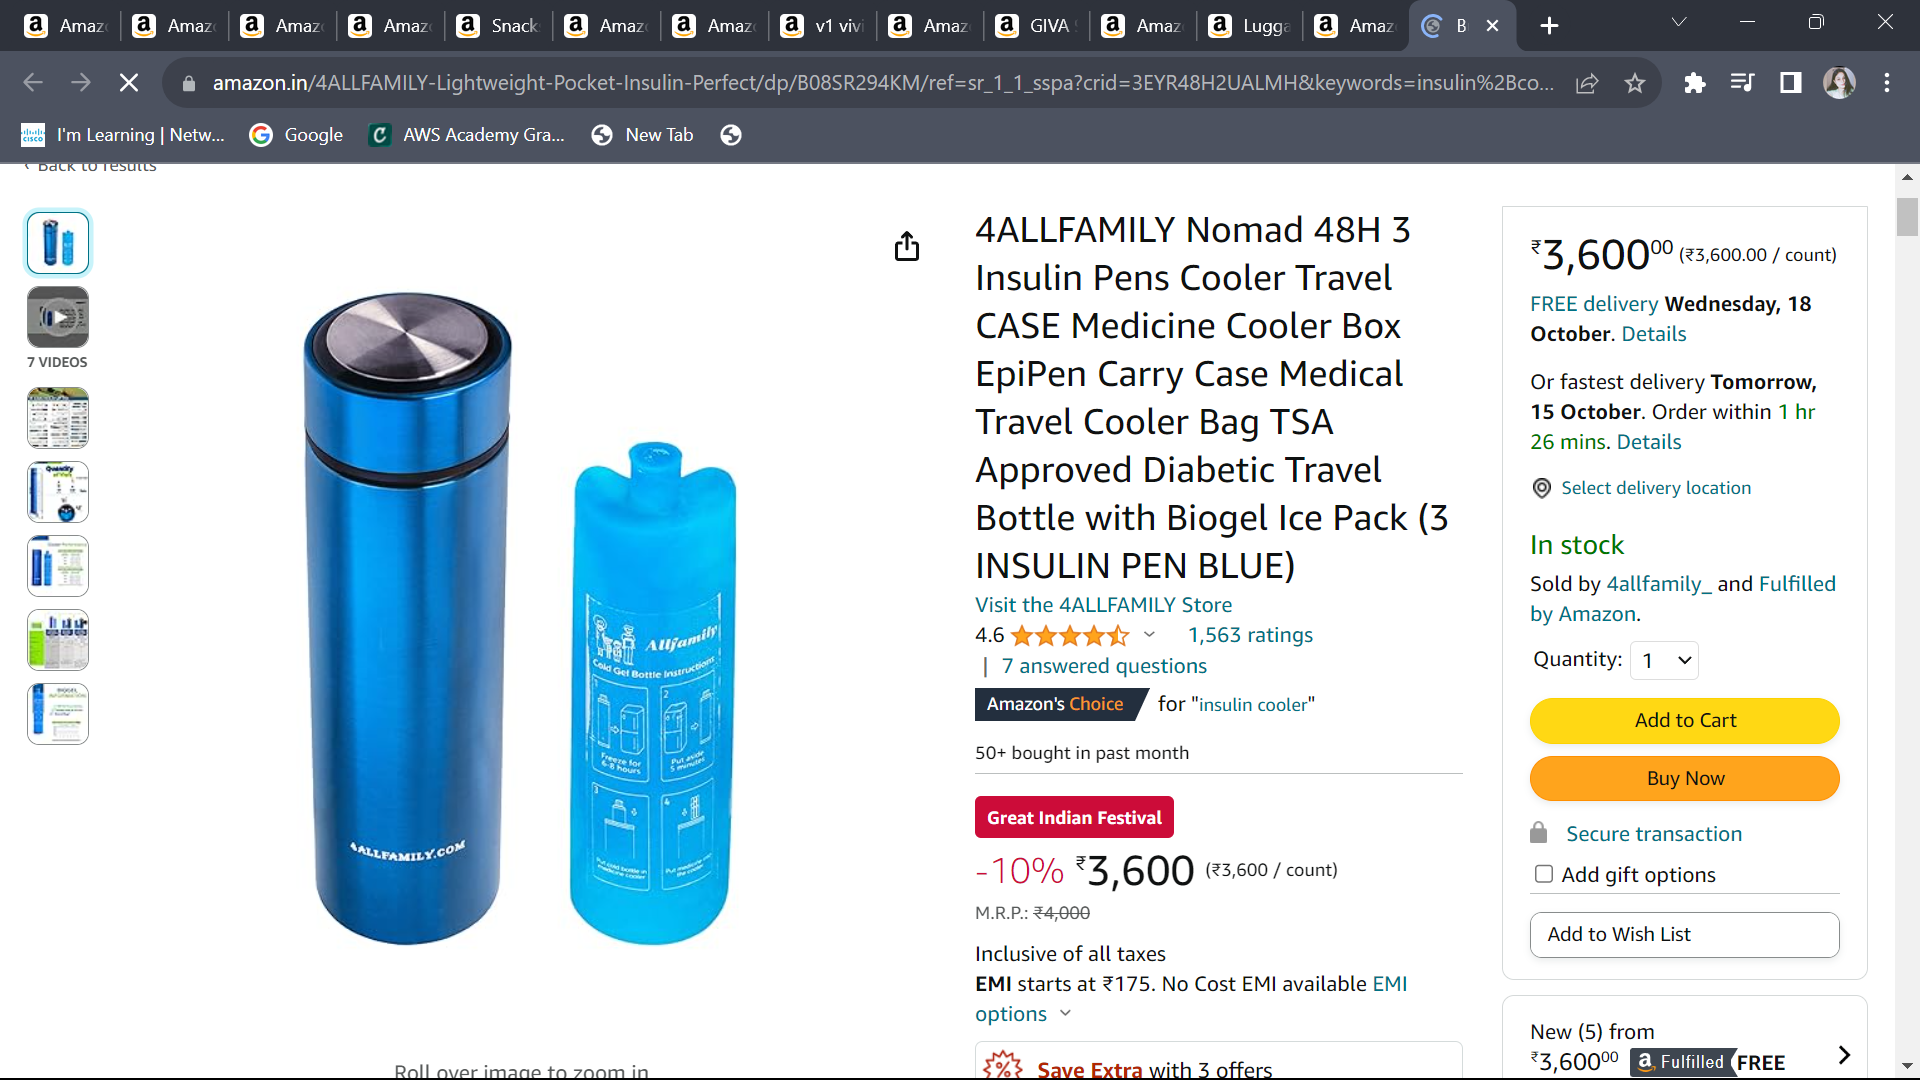Image: (227, 241, 798, 992)
Paragraph: (971, 210, 1478, 609), (1499, 274, 1870, 469), (931, 603, 1412, 732), (931, 824, 1398, 928), (938, 938, 1436, 1030), (1509, 526, 1863, 630), (1493, 702, 1845, 803), (1502, 824, 1780, 895), (1511, 227, 1861, 281), (1511, 475, 1780, 517), (947, 737, 1273, 770), (1520, 919, 1845, 952), (1520, 645, 1738, 687)
